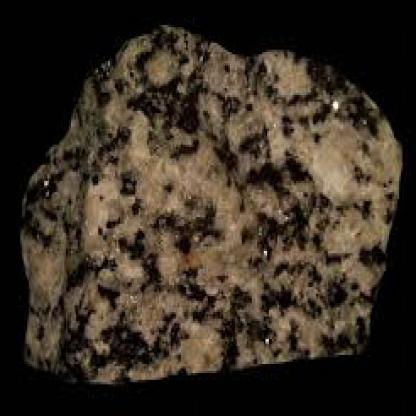Igneous_Diorite: (10, 20, 408, 373)
